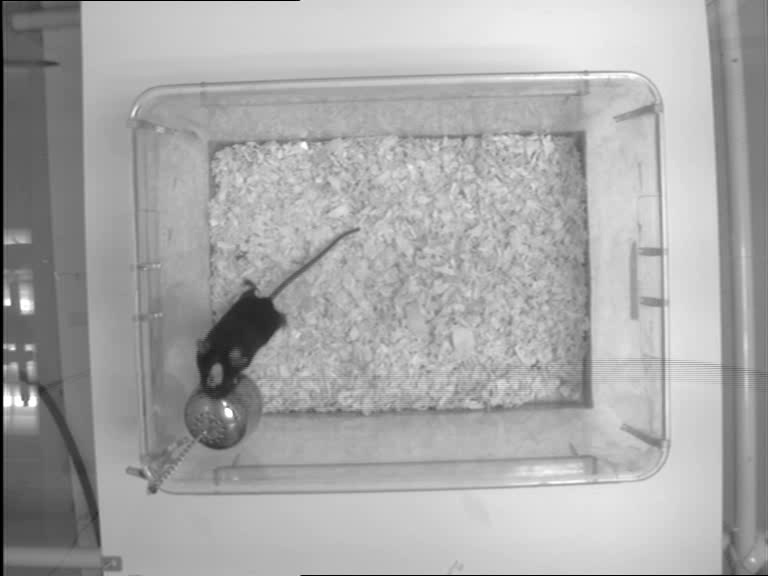mice: (195, 226, 363, 398)
